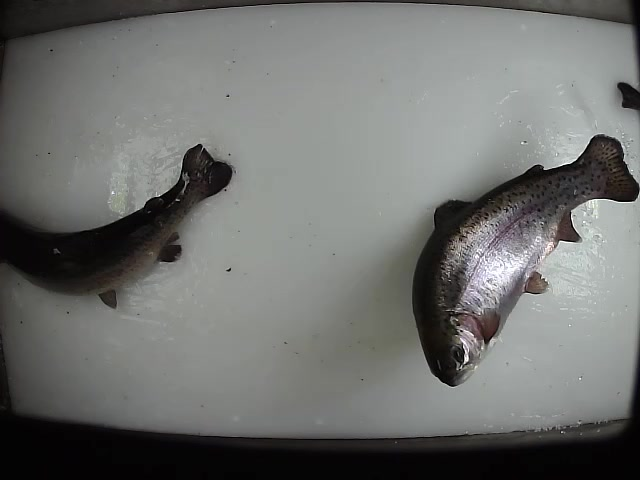fish: (411, 133, 640, 389), (1, 140, 236, 311)
